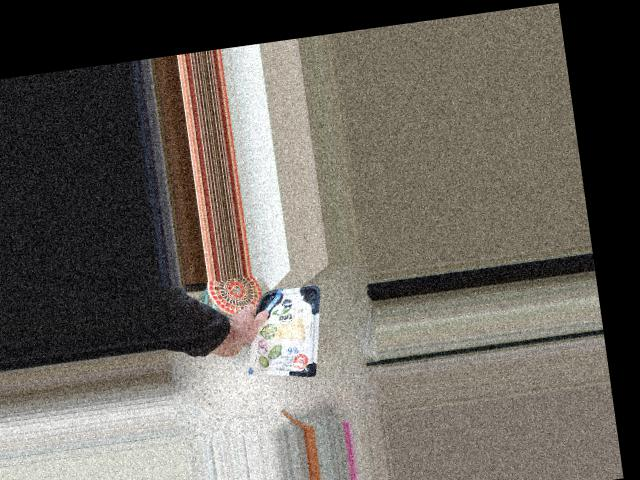cheese: (227, 301, 306, 378)
